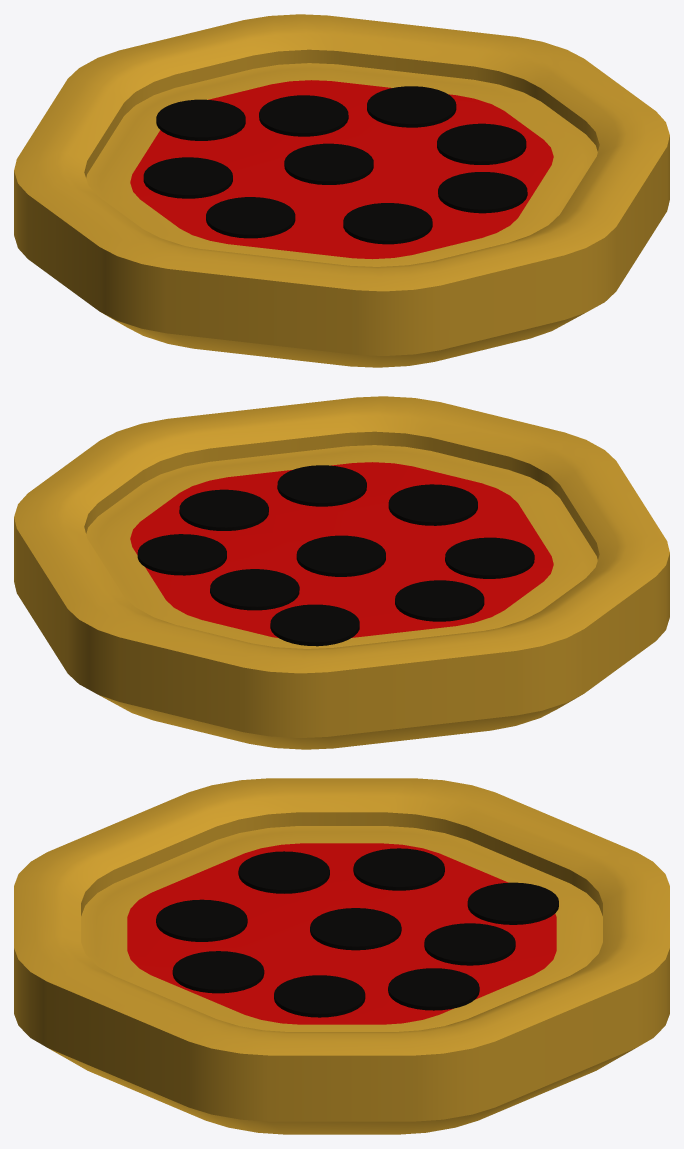
Rendered from School Pizza.obj.
3 views of the same model, one above another, from view 1: azimuth 30°, elevation 25°; view 2: azimuth 150°, elevation 25°; view 3: azimuth 270°, elevation 25° (orthographic). The views are drawn at different scales.
Parts seen in each view (by area): view 1: School_Pizza_Cube.003; view 2: School_Pizza_Cube.003; view 3: School_Pizza_Cube.003.
Part boxes in pixels (x1,y1,x2,y2): School_Pizza_Cube.003: (14,14,669,367); School_Pizza_Cube.003: (14,396,669,749); School_Pizza_Cube.003: (14,778,669,1134).
Size of the model in its own units: 2 by 0.4132 by 2.
